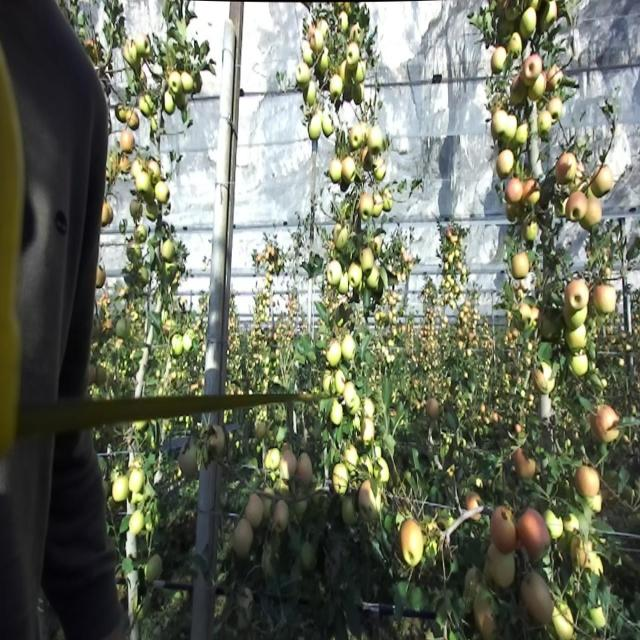apple: (0, 355, 22, 460), (524, 575, 555, 628), (520, 511, 548, 560), (492, 504, 518, 555), (488, 547, 516, 592), (400, 518, 424, 569), (564, 284, 591, 327), (524, 56, 545, 103), (600, 404, 621, 446), (552, 604, 576, 639), (236, 518, 255, 560), (568, 284, 591, 318), (476, 604, 498, 639), (576, 468, 600, 500), (360, 483, 383, 516), (516, 447, 537, 482), (180, 447, 201, 482), (524, 56, 544, 92), (208, 426, 227, 462), (596, 284, 616, 318), (568, 191, 587, 226), (536, 362, 555, 396), (128, 468, 146, 503), (556, 156, 576, 187), (572, 540, 592, 571), (520, 6, 537, 41), (544, 511, 563, 542), (144, 554, 164, 583), (280, 461, 296, 496), (544, 312, 562, 343), (568, 326, 588, 352), (360, 483, 379, 510), (500, 148, 516, 180), (248, 497, 264, 528), (512, 255, 531, 281), (588, 198, 604, 228), (528, 77, 546, 103), (112, 476, 128, 505), (524, 177, 540, 206), (504, 113, 517, 148), (512, 77, 527, 107), (120, 127, 136, 155), (528, 56, 544, 84), (508, 177, 523, 206), (344, 383, 359, 412), (344, 497, 359, 526), (136, 170, 152, 197), (348, 262, 363, 290), (328, 340, 342, 370), (368, 127, 383, 155), (492, 49, 507, 76), (492, 113, 507, 140), (300, 454, 313, 485), (344, 447, 360, 471), (508, 35, 524, 59), (276, 504, 289, 533), (284, 447, 297, 476), (572, 355, 589, 377), (516, 120, 530, 146), (360, 248, 375, 272), (600, 170, 615, 194), (524, 220, 539, 244), (544, 6, 560, 28), (336, 468, 348, 496), (300, 63, 312, 91), (548, 70, 563, 92), (304, 547, 317, 572), (540, 113, 552, 140), (348, 42, 360, 69), (508, 113, 517, 148), (268, 447, 280, 473), (328, 262, 341, 286), (132, 511, 144, 537), (376, 461, 389, 485), (296, 497, 308, 523), (592, 412, 602, 443), (492, 113, 503, 140), (336, 369, 346, 398), (264, 490, 274, 519), (364, 419, 376, 443), (552, 99, 564, 123), (592, 611, 608, 629), (156, 184, 169, 206), (256, 419, 269, 441), (508, 205, 523, 224), (468, 497, 482, 517), (276, 476, 290, 496), (136, 35, 150, 55), (344, 340, 356, 363), (332, 404, 344, 427), (368, 269, 380, 292), (428, 397, 440, 420), (304, 84, 316, 107), (364, 397, 376, 420), (96, 269, 108, 292), (576, 163, 587, 188), (360, 198, 372, 220), (344, 163, 356, 185), (148, 163, 160, 185), (336, 227, 348, 249), (104, 205, 115, 228), (372, 234, 383, 256), (304, 42, 314, 66), (176, 92, 188, 112), (340, 63, 351, 84), (192, 77, 204, 96), (332, 163, 342, 185), (352, 127, 362, 149), (376, 163, 387, 183), (356, 63, 366, 85), (324, 376, 334, 398), (164, 241, 175, 261), (120, 156, 131, 176), (124, 42, 135, 62), (132, 163, 146, 178), (280, 461, 291, 480), (520, 305, 531, 324), (128, 113, 140, 130), (116, 106, 128, 123), (348, 397, 360, 414), (384, 191, 393, 213), (172, 340, 184, 356), (332, 77, 342, 96), (356, 84, 364, 107), (592, 177, 601, 197), (148, 205, 160, 220), (532, 305, 541, 325), (312, 120, 320, 142), (376, 198, 384, 220), (140, 99, 150, 116), (364, 148, 371, 171), (320, 56, 328, 76), (172, 77, 181, 94), (140, 269, 149, 286), (308, 28, 316, 46), (340, 276, 348, 293), (552, 6, 560, 23), (324, 120, 333, 135), (364, 461, 373, 476), (184, 77, 192, 92), (168, 99, 176, 114), (320, 20, 328, 34), (152, 120, 157, 135), (352, 28, 357, 41), (332, 241, 336, 251)
